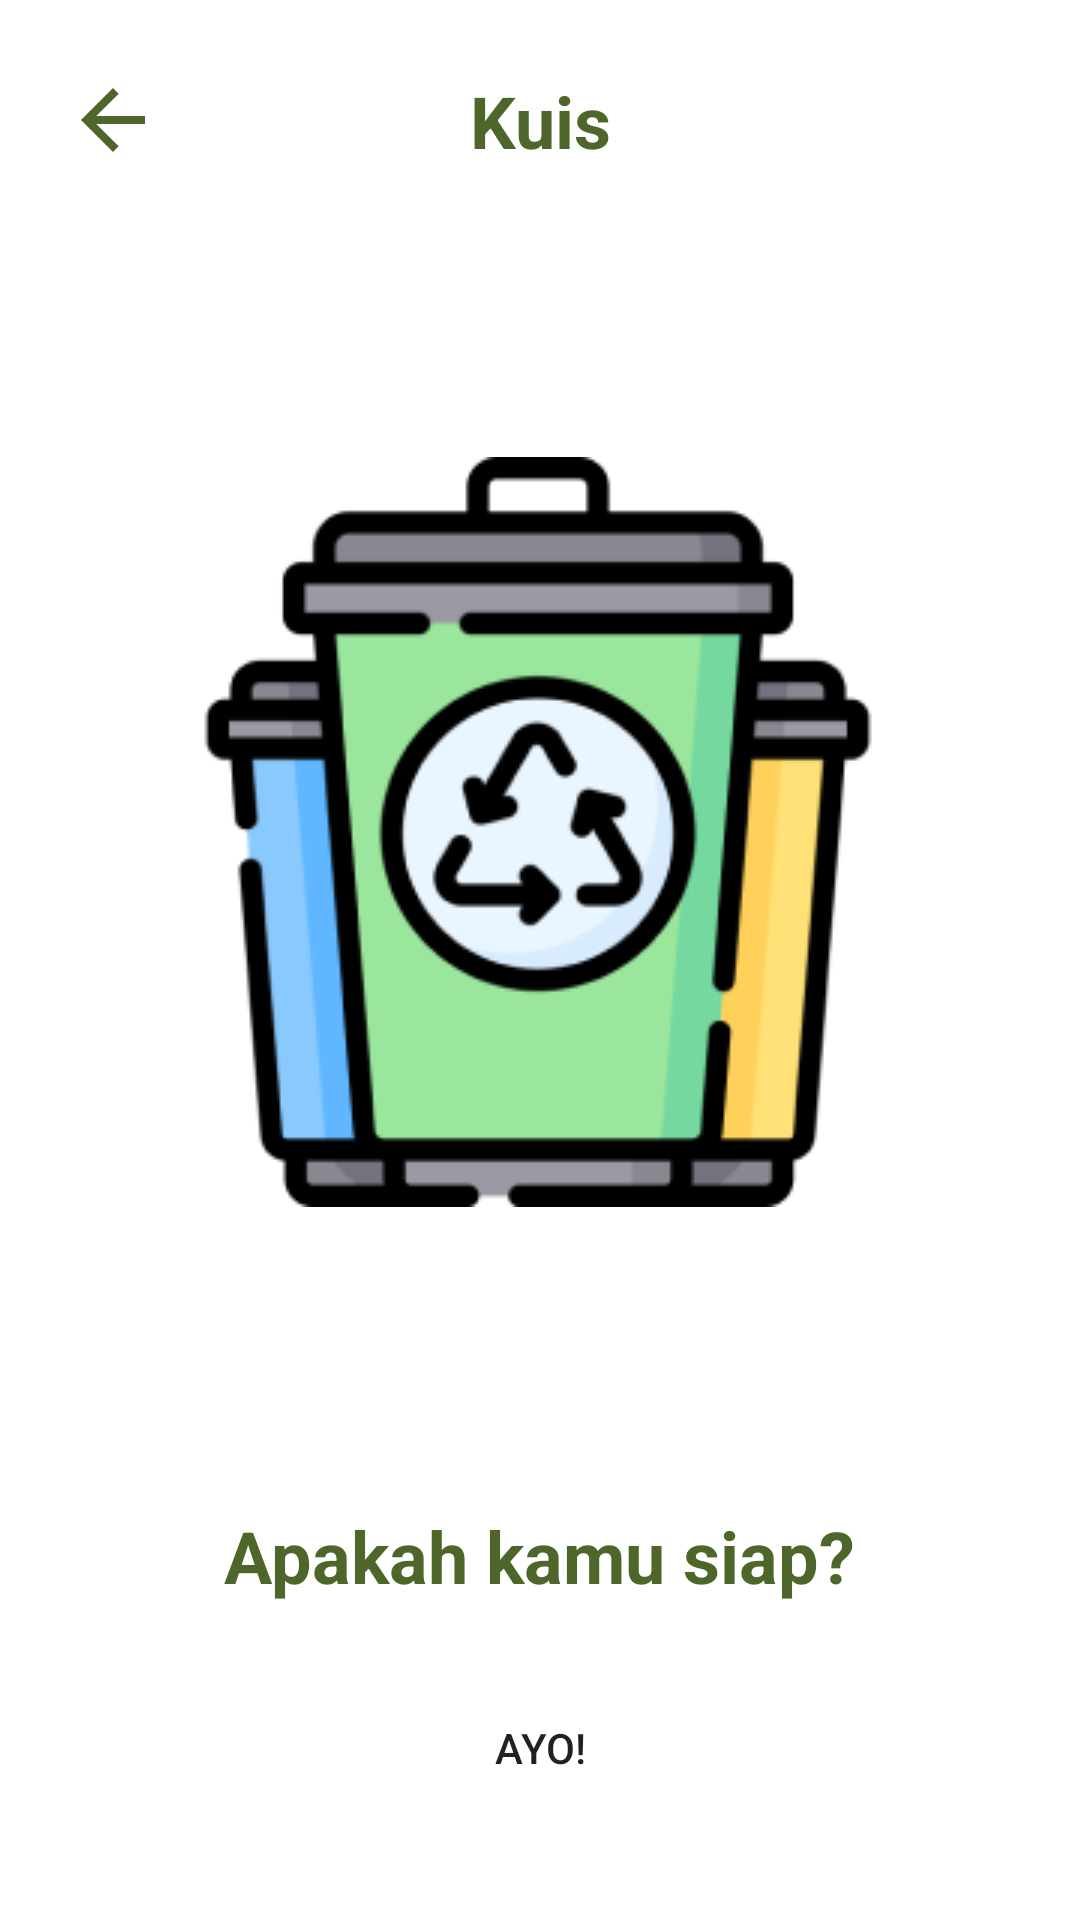

Screen size 1080 × 1920. Icon name, then its center in pixels as point (x, y):
Back: point (113, 120)
